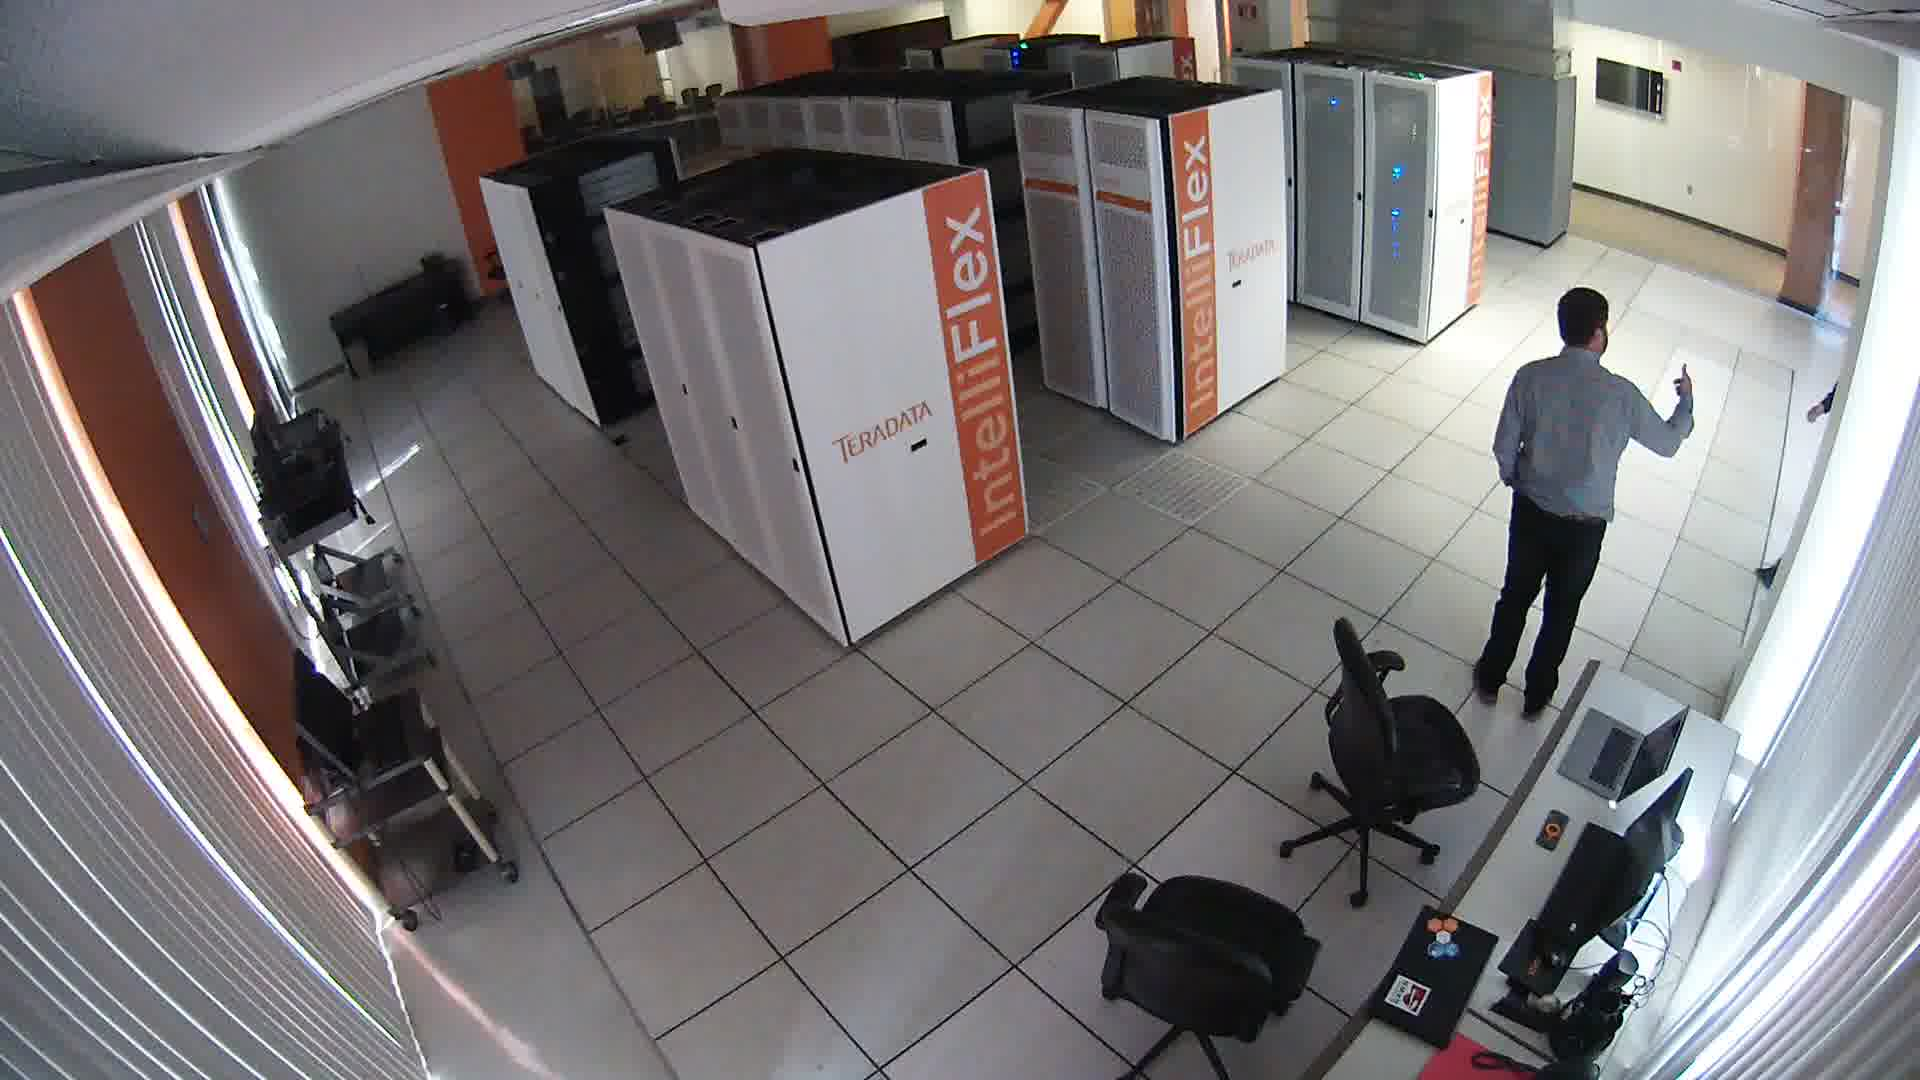pp: (1427, 249, 1705, 719)
